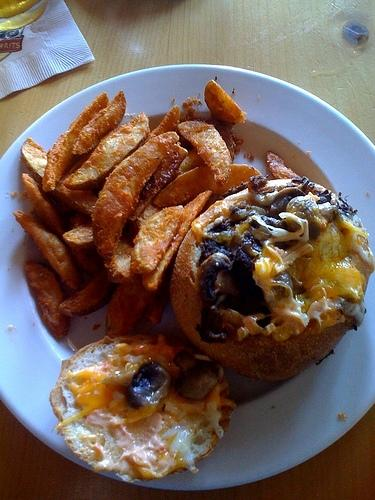potato: (92, 132, 180, 262), (60, 111, 150, 192), (142, 191, 212, 291), (42, 92, 110, 192), (21, 137, 98, 216), (13, 212, 78, 290), (153, 164, 263, 208), (128, 142, 188, 221), (20, 172, 70, 250), (176, 120, 232, 187), (130, 205, 184, 274), (58, 262, 121, 318), (72, 90, 126, 155), (25, 262, 70, 339), (106, 275, 158, 337), (142, 252, 177, 325), (204, 79, 246, 124), (128, 198, 162, 248), (68, 185, 104, 231), (266, 151, 302, 180), (62, 219, 95, 250), (152, 104, 180, 136), (70, 252, 93, 288)
